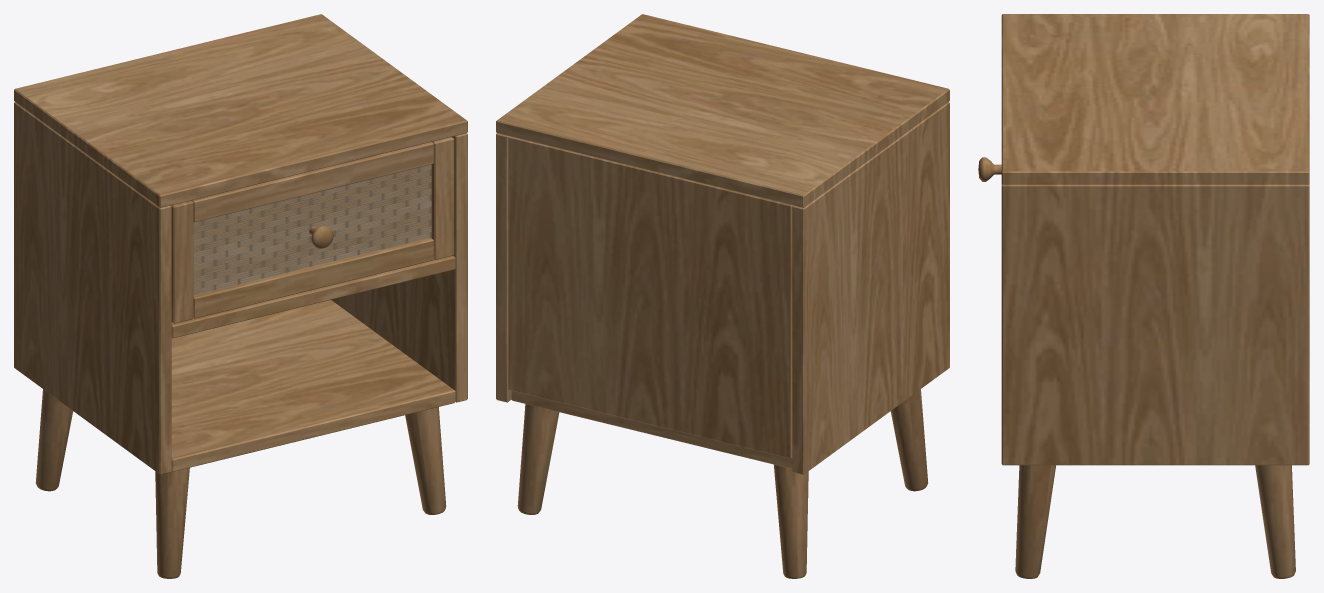
File: mesilla_ratan_45.glb
3 views of the same model, side by side, from view 1: azimuth 30°, elevation 25°; view 2: azimuth 150°, elevation 25°; view 3: azimuth 270°, elevation 25° (orthographic). The views are drawn at different scales.
Parts seen in each view (by area): view 1: mesilla_ratan_45; view 2: mesilla_ratan_45; view 3: mesilla_ratan_45.
Part boxes in pixels (bbox=[...]): mesilla_ratan_45: bbox=[14, 14, 467, 578]; mesilla_ratan_45: bbox=[496, 14, 949, 578]; mesilla_ratan_45: bbox=[978, 14, 1309, 578].
Bounding box in the file's own units: 0.45 × 0.551 × 0.398.
Materials: 2 (2 with a texture image).
